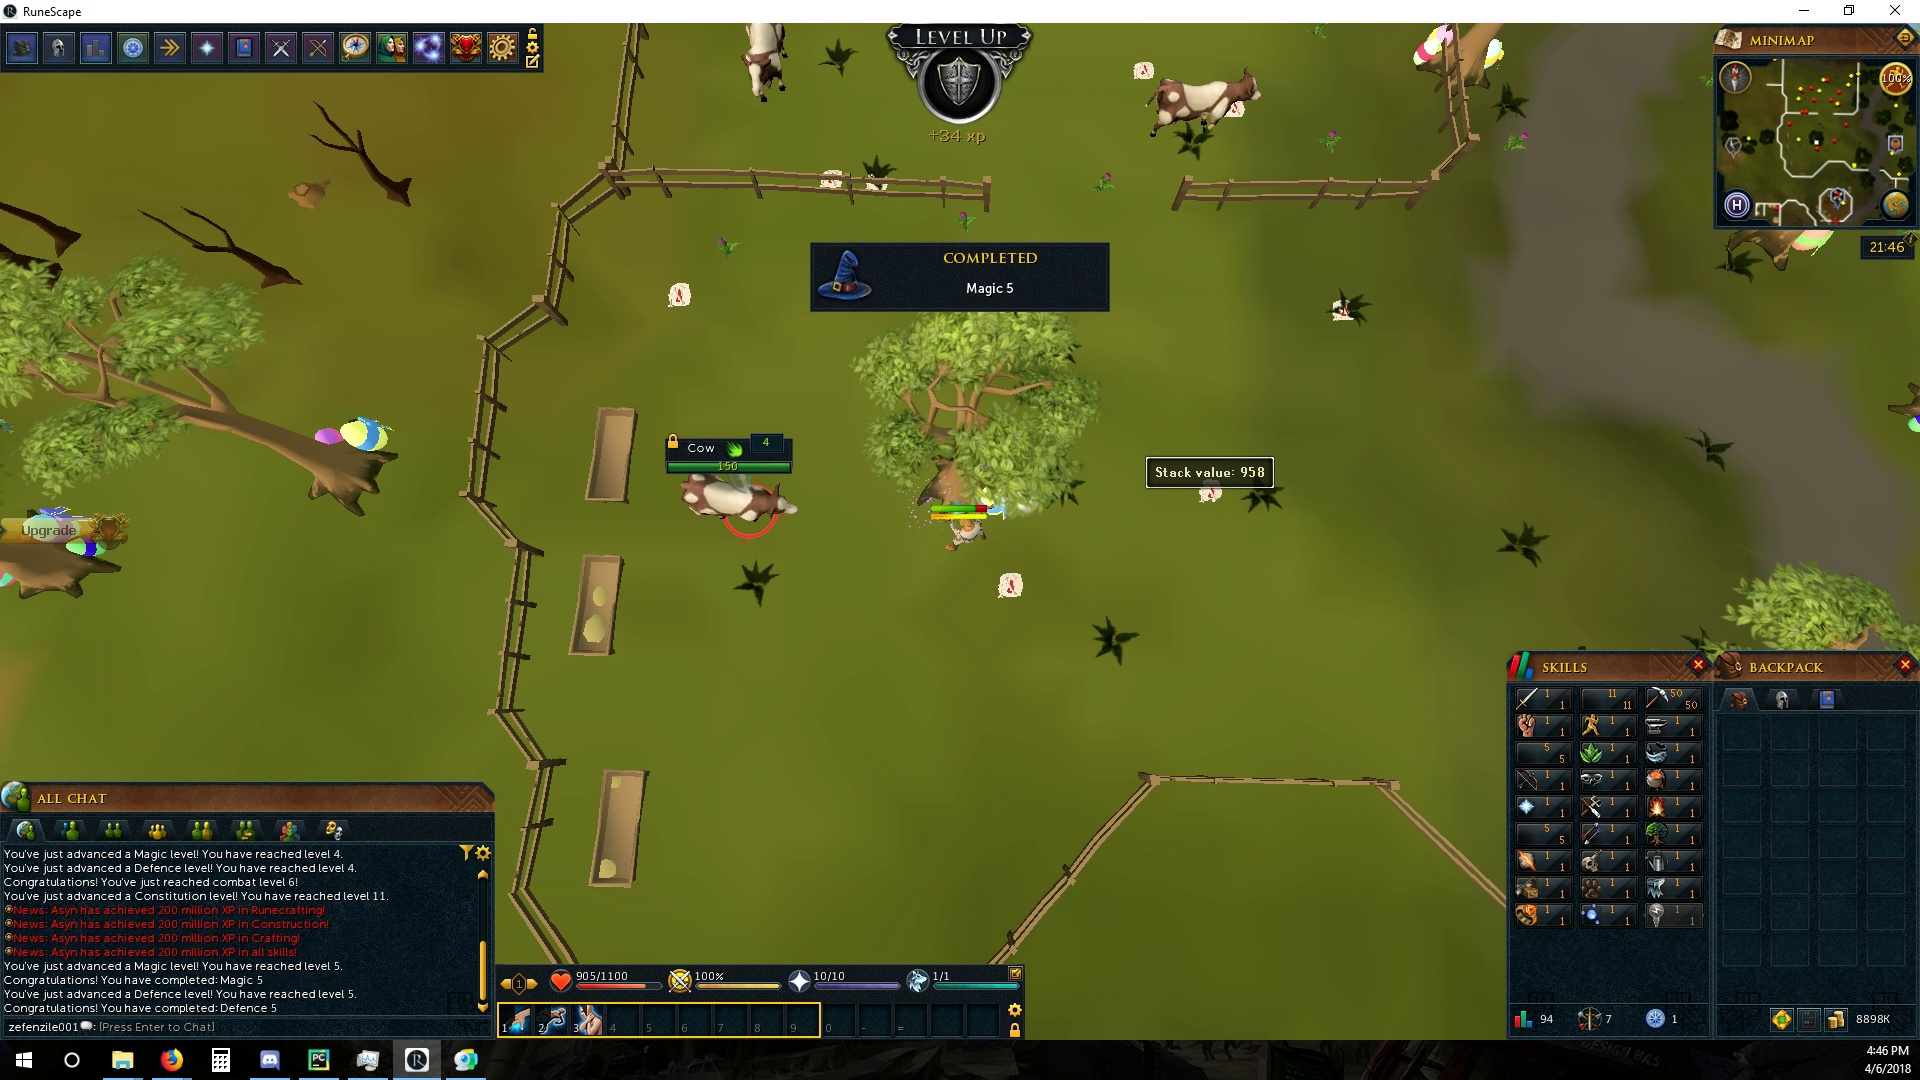cow: (1139, 65, 1269, 142), (669, 473, 806, 529), (736, 22, 795, 109)
cow_drop: (1328, 294, 1369, 328), (992, 570, 1026, 601), (665, 280, 696, 310), (1221, 100, 1254, 127), (1195, 481, 1224, 506), (818, 165, 849, 187), (1131, 57, 1158, 79)
